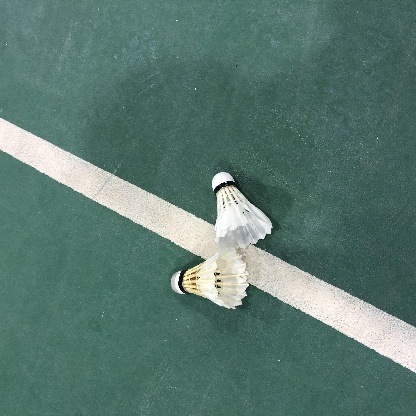ball_single: (170, 247, 249, 309), (212, 172, 273, 252)
